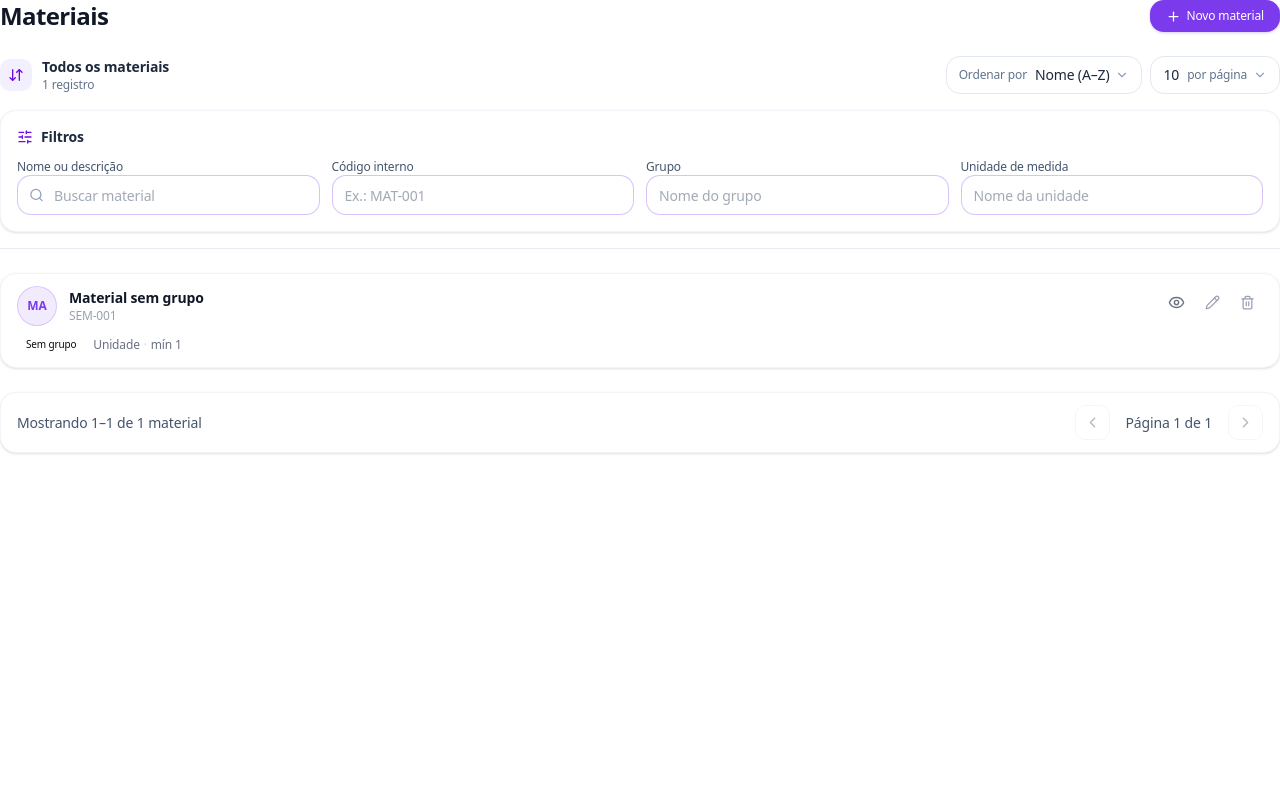
Grupo opcional de materiais › apresenta Sem grupo na listagem e nos detalhes
This screenshot has width=1280, height=800.
Expected: the text "Sem grupo" is shown, [26, 337, 76, 351]
Click the button named "Ver detalhes de Material sem grupo" at coordinates (1176, 302), box [1160, 286, 1193, 319]
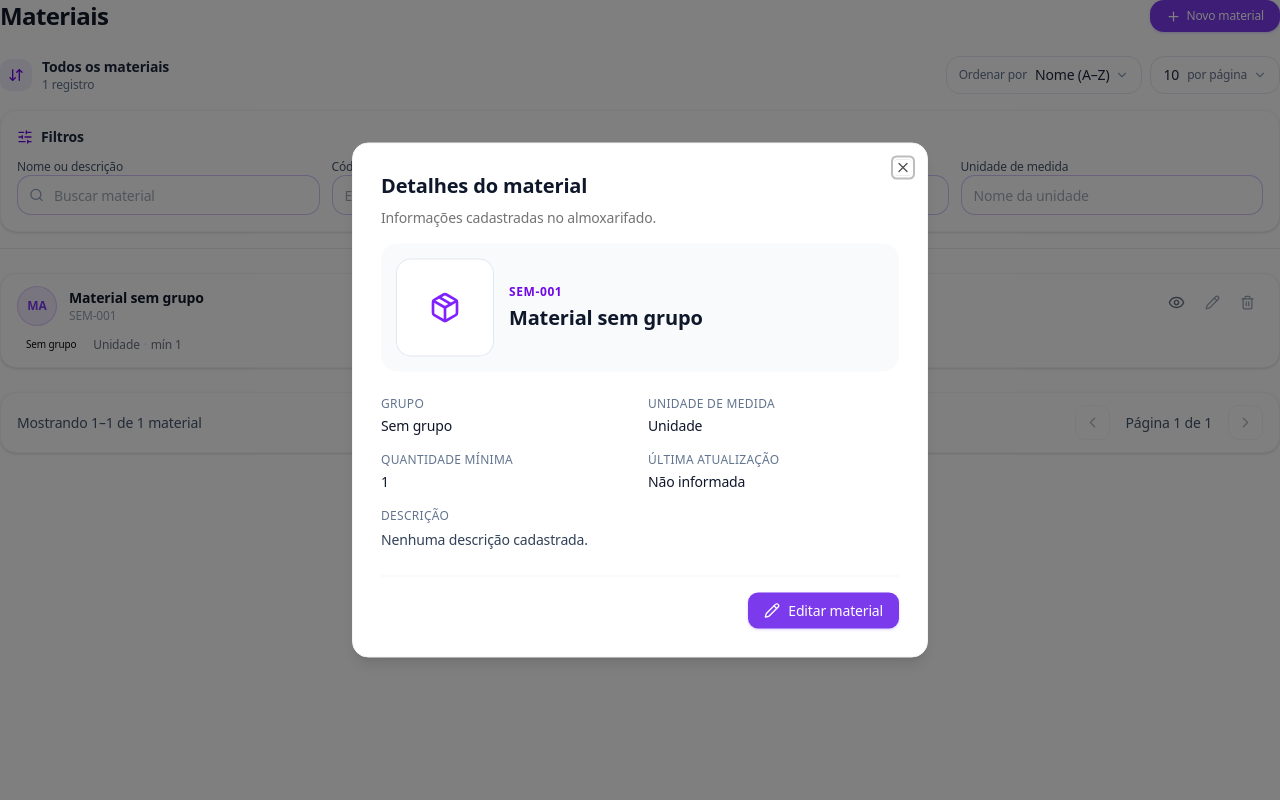
Result: the text "Sem grupo" is shown at [381, 416, 452, 434]
